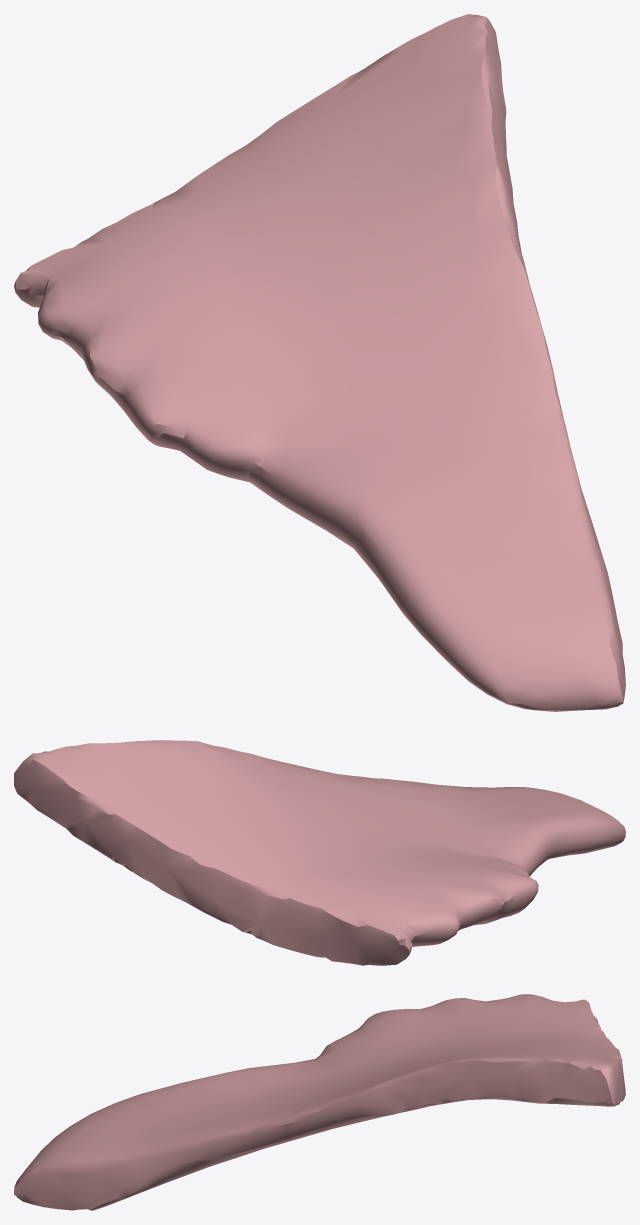
The model's file is fma275267_mm3776m.glb.
3 views of the same model, one above another, from view 1: azimuth 30°, elevation 25°; view 2: azimuth 150°, elevation 25°; view 3: azimuth 270°, elevation 25° (orthographic). The views are drawn at different scales.
Visible parts, largest first — view 1: FMA275267_MM3776M; view 2: FMA275267_MM3776M; view 3: FMA275267_MM3776M.
Boxes of the visible parts, <box> form: FMA275267_MM3776M: <box>14,14,625,711</box>; FMA275267_MM3776M: <box>14,740,625,965</box>; FMA275267_MM3776M: <box>14,994,625,1210</box>.
Bounding box in the file's own units: 0.0226 × 0.0135 × 0.0328.
